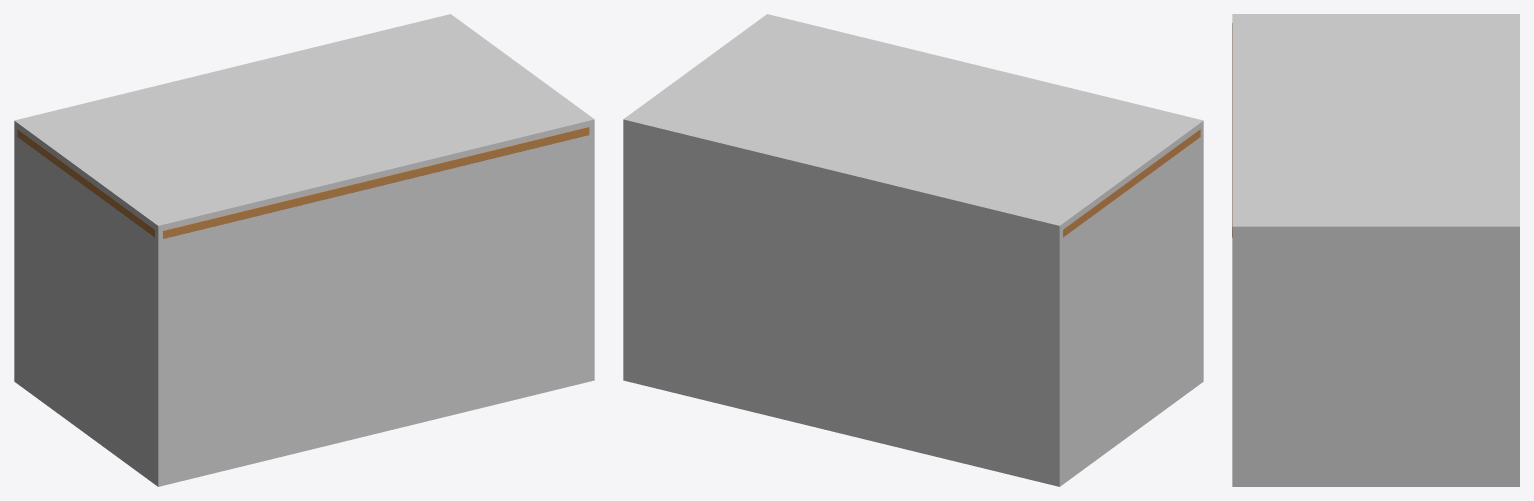
Rendered from prop_table_a.glb.
The picture shows the model from 3 angles, left to right: view 1: azimuth 30°, elevation 25°; view 2: azimuth 150°, elevation 25°; view 3: azimuth 270°, elevation 25°; orthographic projection.
Visible parts, largest first — view 1: COL_prop_table_a_1, prop_table_a; view 2: COL_prop_table_a_1, prop_table_a; view 3: COL_prop_table_a_1.
Part boxes in pixels (x1,y1,x2,y2): COL_prop_table_a_1: [14, 14, 594, 486]; prop_table_a: [17, 127, 589, 238]; COL_prop_table_a_1: [623, 14, 1203, 486]; prop_table_a: [1063, 129, 1200, 237]; COL_prop_table_a_1: [1232, 14, 1519, 486].
Bounding box in the file's own units: 1.4 × 0.801 × 0.8008.
